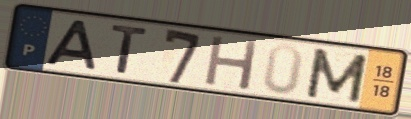0: (260, 42, 307, 97)
7: (164, 26, 203, 85)
A: (41, 18, 100, 73)
H: (202, 33, 262, 93)
M: (303, 46, 371, 105)
T: (109, 23, 152, 77)
